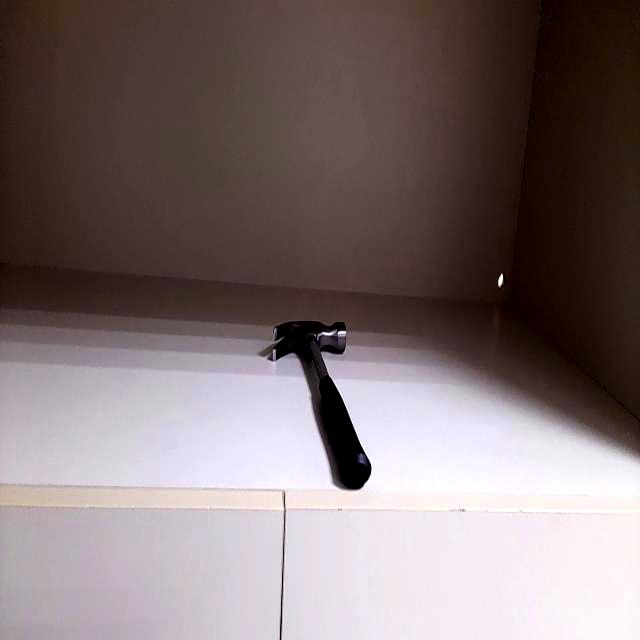hammer: (275, 316, 377, 482)
